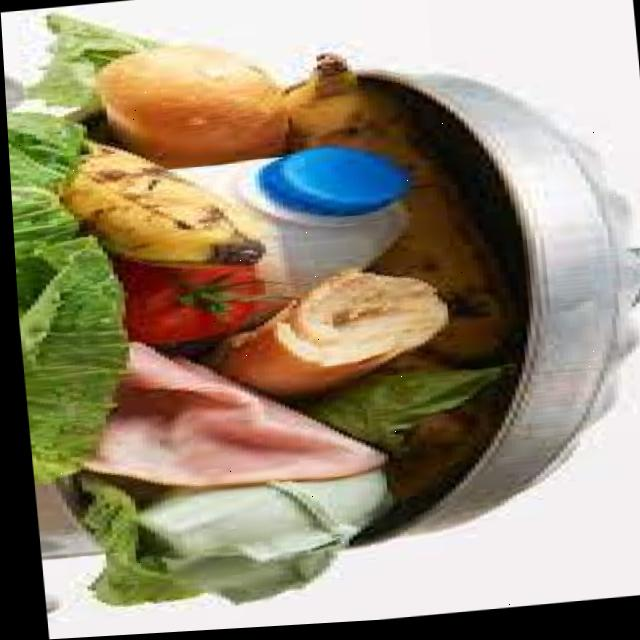Wet: (84, 332, 377, 500), (52, 136, 275, 283), (227, 259, 458, 389), (78, 40, 284, 166), (274, 42, 375, 156)
